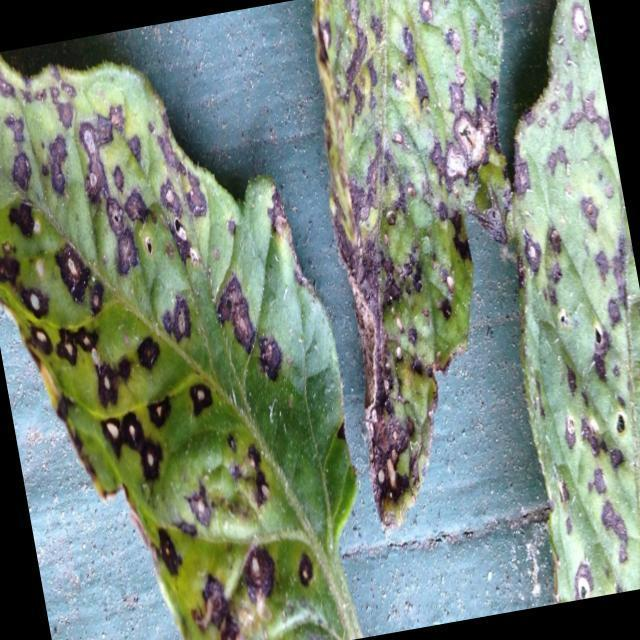Septoria: (0, 19, 338, 640), (280, 0, 544, 523), (452, 0, 640, 603)
